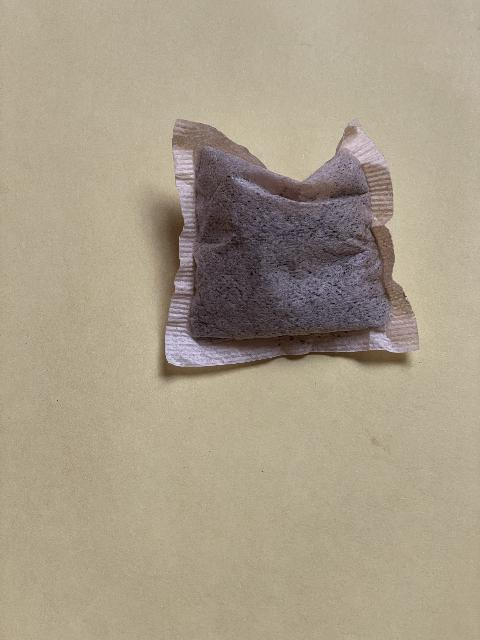teabag: (163, 117, 421, 370)
